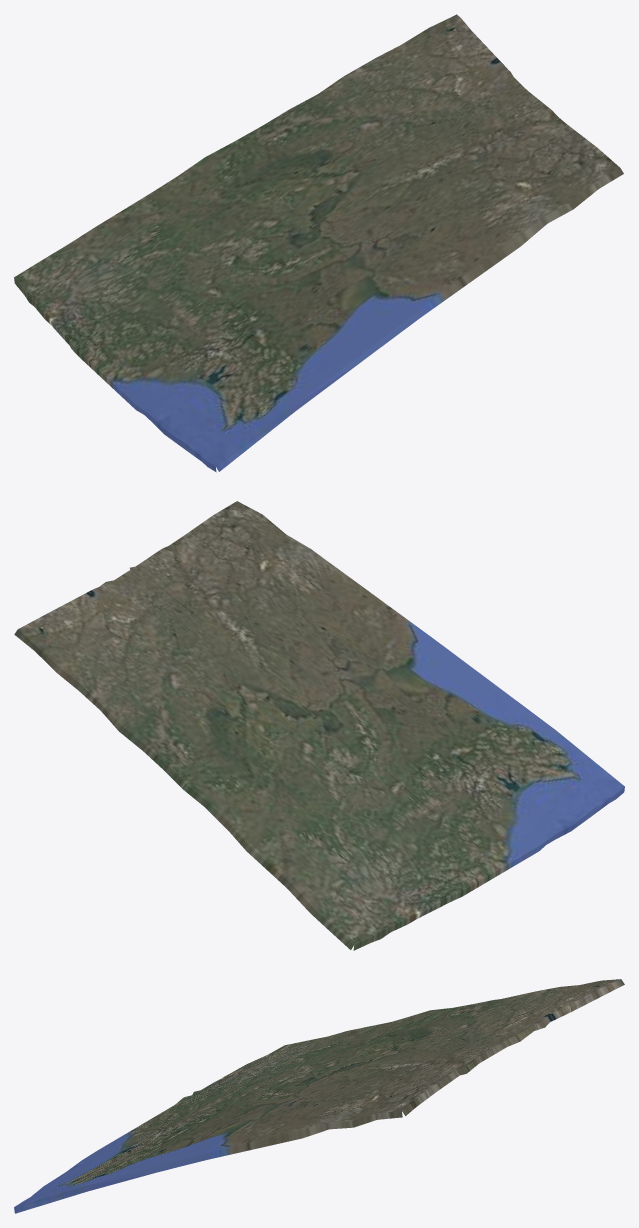
3 renders of one model, top to bottom at view 1: azimuth 30°, elevation 25°; view 2: azimuth 150°, elevation 25°; view 3: azimuth 330°, elevation 25°, orthographic. The views are drawn at different scales.
Bounding box in the file's own units: 620167 × 281704 × 595978.
1 material, 1 textured.
